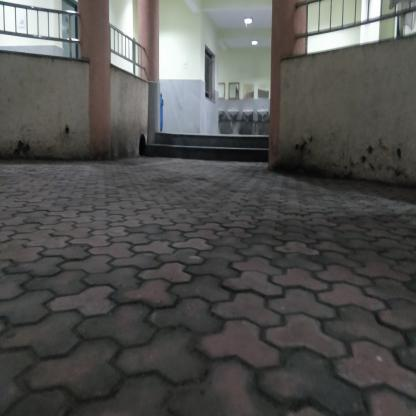stairs: (159, 132, 268, 165)
